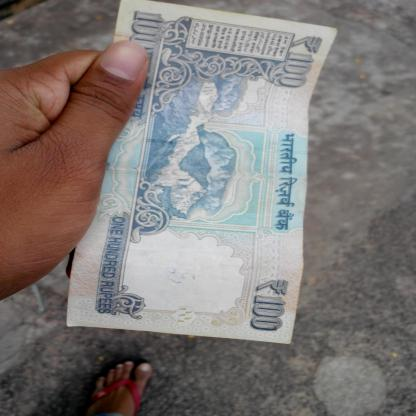Old100Back: (63, 0, 339, 346)
